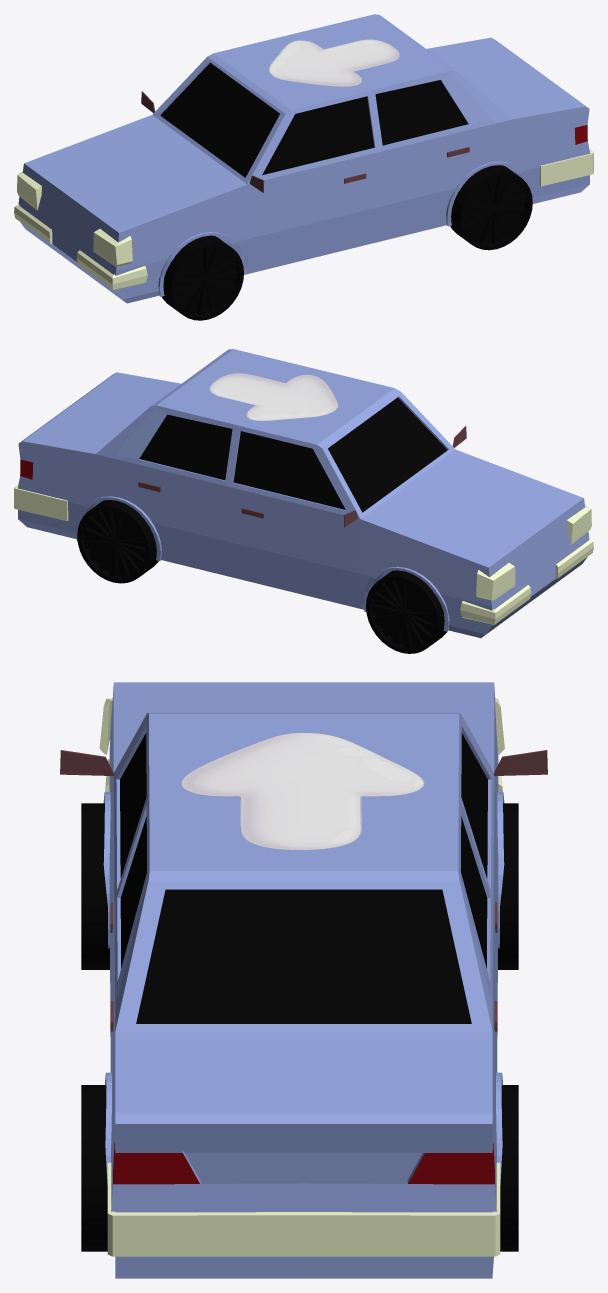
The model's file is car4clot1.fbx.
3 views of the same model, one above another, from view 1: azimuth 30°, elevation 25°; view 2: azimuth 150°, elevation 25°; view 3: azimuth 270°, elevation 25° (orthographic). The views are drawn at different scales.
Visible parts, largest first — view 1: Cube, Cylinder.001, Plane.001, Cube.003, Cube.006, Cube.004; view 2: Cube, Cylinder.001, Plane.001, Cube.003, Cube.006, Cube.004; view 3: Cube, Cube.004, Plane.001, Cylinder.001, Cube.005, Cube.006.
Boxes of the visible parts, left/top/right/bottom form: Cube: left=18, top=14, right=590, bottom=303; Cylinder.001: left=162, top=165, right=532, bottom=320; Plane.001: left=269, top=39, right=399, bottom=86; Cube.003: left=14, top=204, right=147, bottom=290; Cube.006: left=17, top=172, right=132, bottom=266; Cube.004: left=539, top=149, right=593, bottom=186; Cube: left=18, top=349, right=589, bottom=638; Cylinder.001: left=77, top=500, right=447, bottom=653; Plane.001: left=209, top=373, right=338, bottom=420; Cube.003: left=460, top=539, right=593, bottom=624; Cube.006: left=476, top=505, right=591, bottom=600; Cube.004: left=14, top=484, right=68, bottom=521; Cube: left=103, top=682, right=504, bottom=1278; Cube.004: left=107, top=1162, right=500, bottom=1256; Plane.001: left=181, top=733, right=424, bottom=849; Cylinder.001: left=81, top=803, right=518, bottom=1251; Cube.005: left=60, top=750, right=547, bottom=775; Cube.006: left=99, top=698, right=504, bottom=754.
Bounding box in the file's own units: 5.86 × 2.01 × 2.56.
6 materials, 1 textured.
